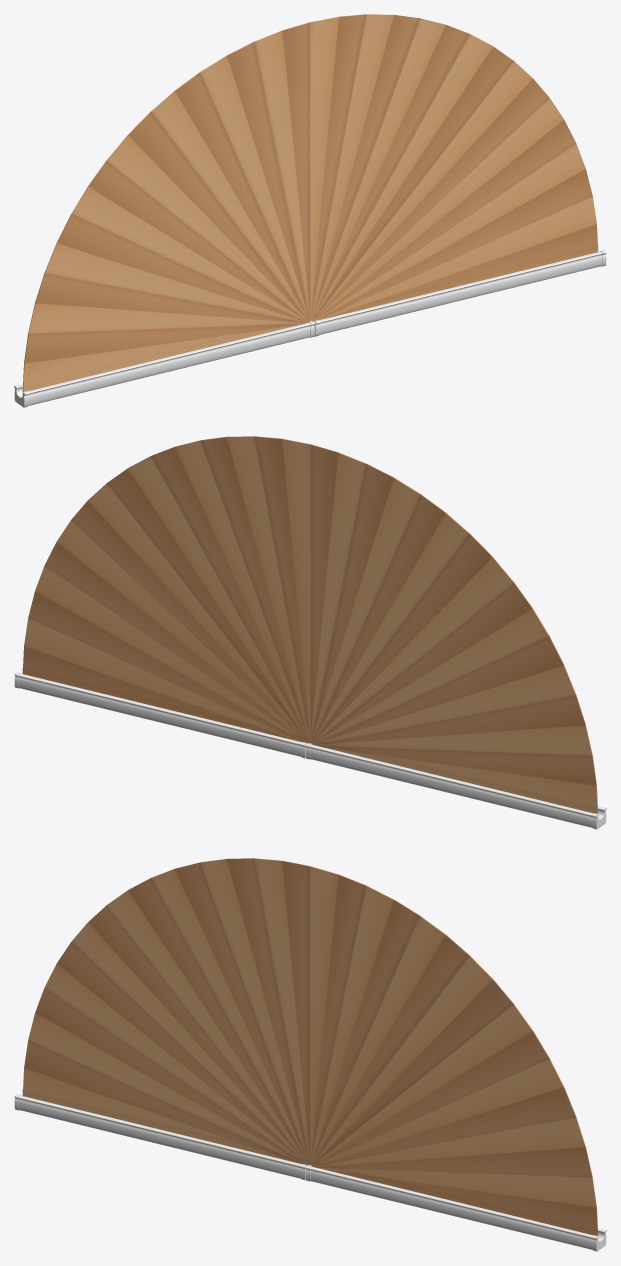
3 renders of one model, top to bottom at view 1: azimuth 30°, elevation 25°; view 2: azimuth 150°, elevation 25°; view 3: azimuth 330°, elevation 25°, orthographic.
Visible parts, largest first — view 1: Circle, BezierCurve.048, BezierCurve.029; view 2: Circle, BezierCurve.048, BezierCurve.029; view 3: Circle, BezierCurve.029, BezierCurve.048.
Boxes of the visible parts, bbox=[...] form: Circle: bbox=[22, 14, 598, 391]; BezierCurve.048: bbox=[19, 322, 311, 405]; BezierCurve.029: bbox=[319, 251, 602, 334]; Circle: bbox=[22, 436, 598, 813]; BezierCurve.048: bbox=[309, 744, 601, 827]; BezierCurve.029: bbox=[18, 673, 301, 756]; Circle: bbox=[22, 858, 598, 1235]; BezierCurve.029: bbox=[309, 1166, 601, 1249]; BezierCurve.048: bbox=[18, 1095, 301, 1178].
Bounding box in the file's own units: 1.29 × 0.6611 × 0.0428.
2 materials, 1 textured.
